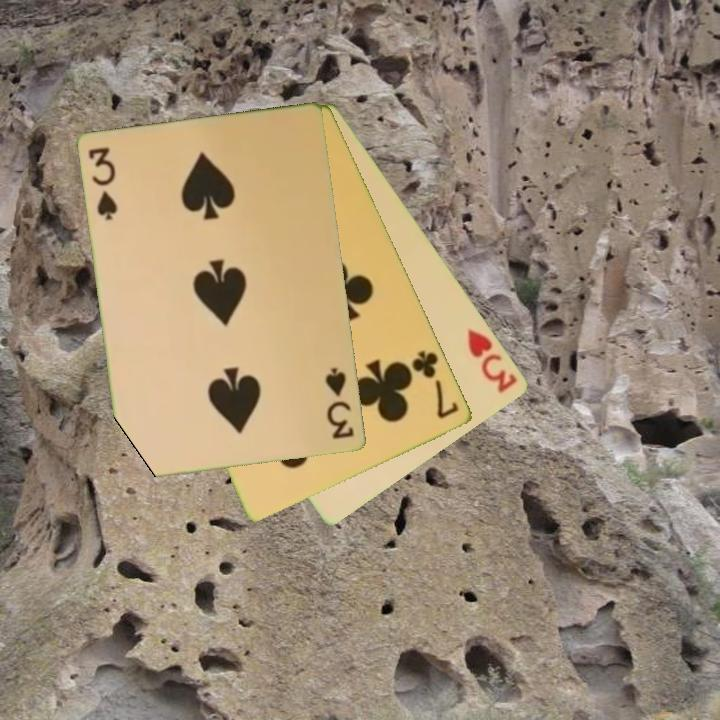3h: (464, 325, 521, 396)
3s: (85, 144, 121, 224), (322, 364, 357, 443)
7c: (408, 347, 463, 422)
